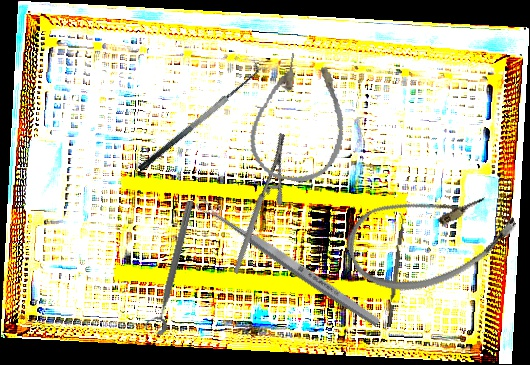Cannula: (337, 160, 526, 311), (242, 47, 359, 190)
Chopper: (381, 212, 407, 328)
Fixation Ring: (142, 197, 198, 337)
Needle Holder: (194, 131, 323, 275)
Spatula Surgical: (129, 59, 266, 173)
Surgical Spoon: (194, 196, 382, 329)
